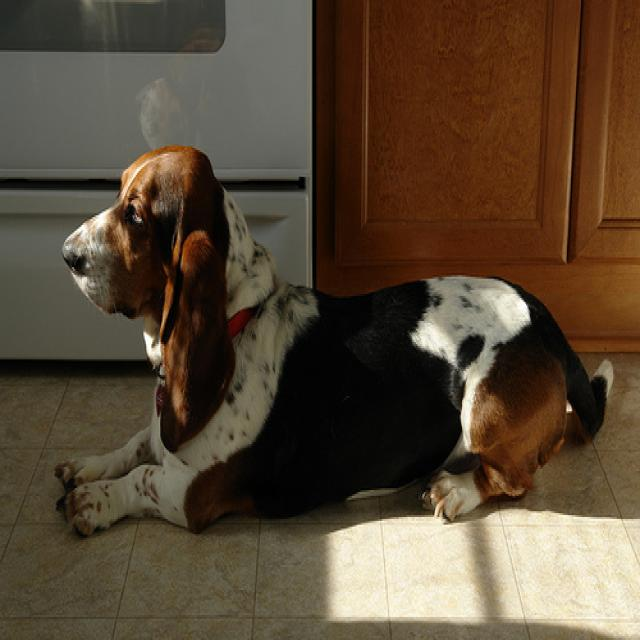dog-basset_hound: (50, 140, 616, 544)
